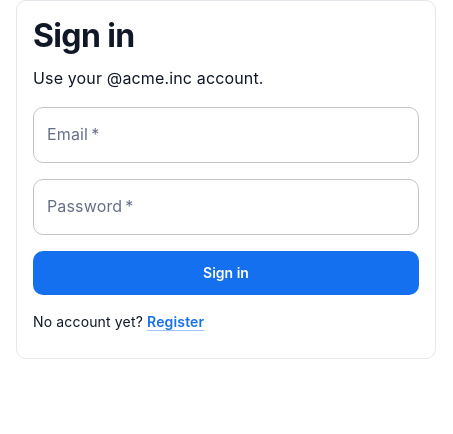
LoginPage › shows the message the server gave when sign-in fails
Type "sam.employee@acme.inc" into the field labelled "Email *".
click(226, 135); type("sam.employee@acme.inc")  # box [33,107,419,163]
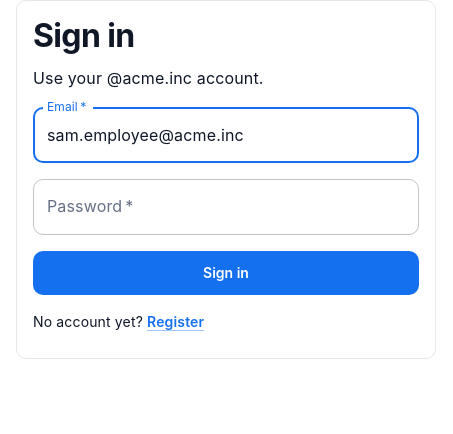
Type "wrong" into the password field labelled "Password *".
click(226, 207); type("wrong")  # box [33,179,419,235]
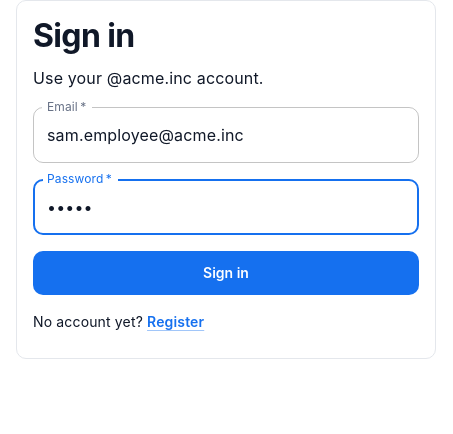
Click the button "Sign in".
click(226, 273)  # box [33,251,419,295]
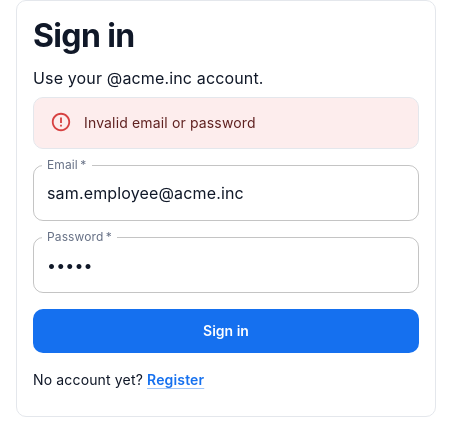
Expected: the text "Invalid email or password" is shown, [84,114,256,131]
